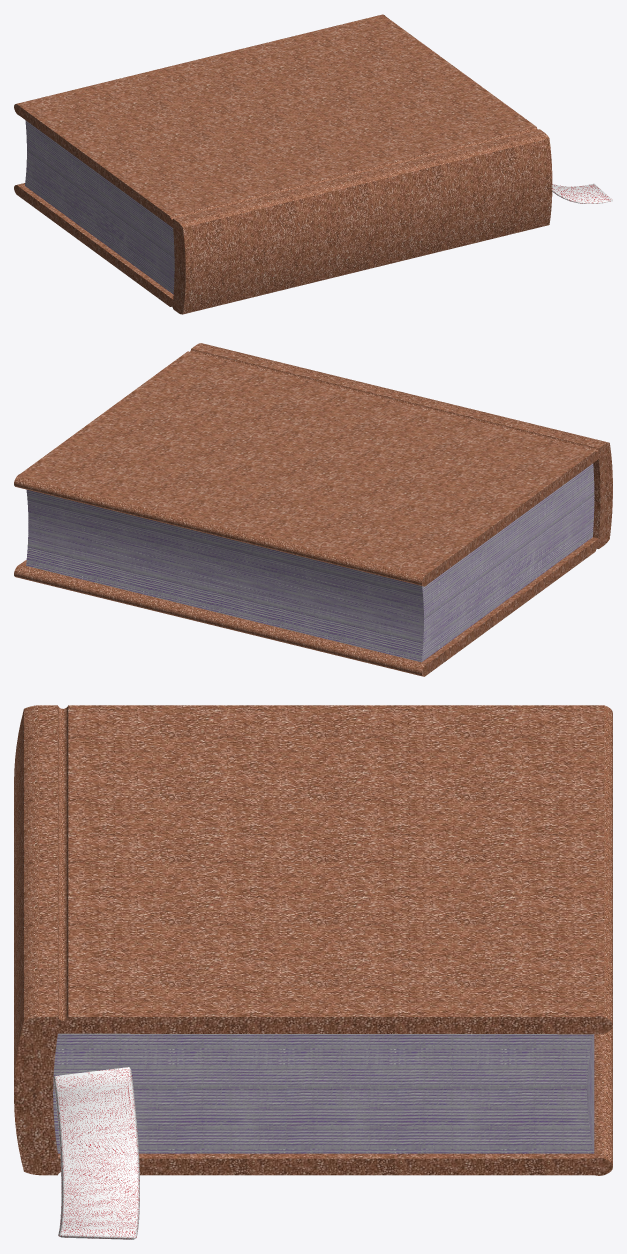
3 renders of one model, top to bottom at view 1: azimuth 30°, elevation 25°; view 2: azimuth 150°, elevation 25°; view 3: azimuth 270°, elevation 25°, orthographic. The views are drawn at different scales.
Parts seen in each view (by area): view 1: group_0 (×2), SketchUp; view 2: group_0 (×2); view 3: group_0 (×2), SketchUp.
Boxes of the visible parts, x1=… form: group_0 (×2): x1=14, y1=14, x2=552, y2=314; SketchUp: x1=552, y1=183, x2=612, y2=203; group_0 (×2): x1=14, y1=343, x2=612, y2=676; group_0 (×2): x1=14, y1=705, x2=612, y2=1175; SketchUp: x1=53, y1=1067, x2=139, y2=1239.
Bounding box in the file's own units: 9.51 × 6.39 × 1.88.
4 materials, 3 textured.
